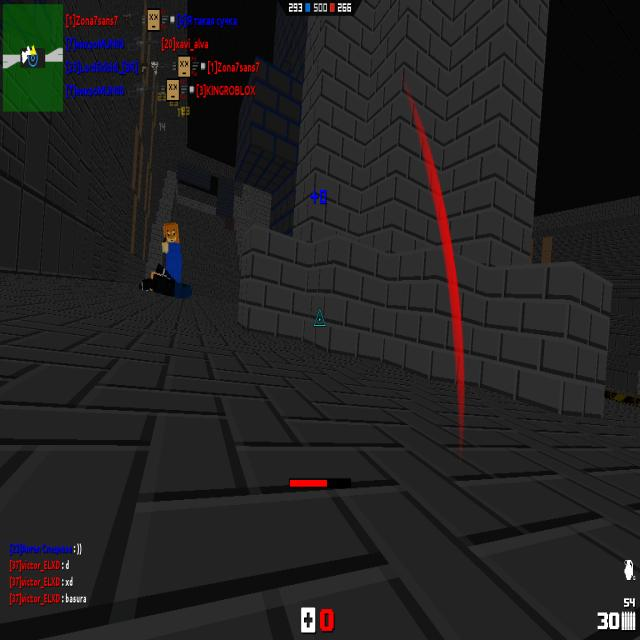enemy: (161, 216, 183, 287)
